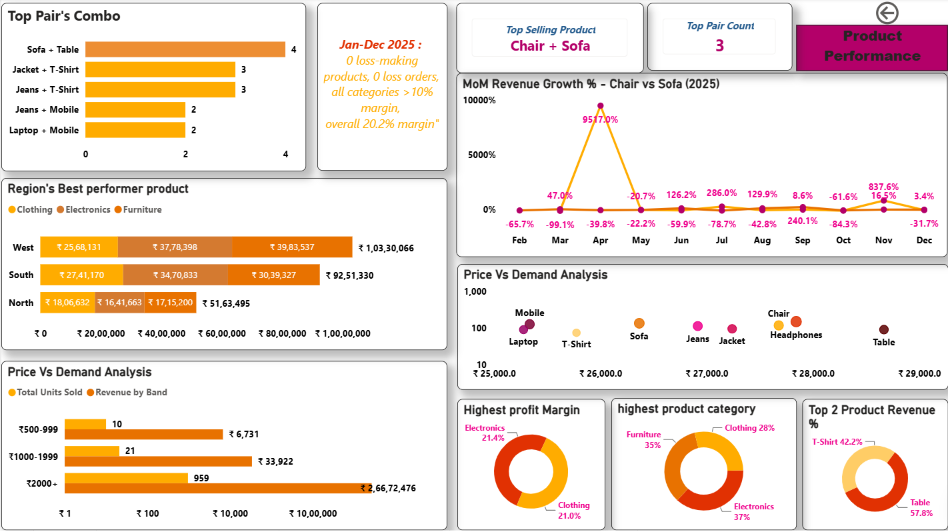

The dashboard page shown, as its layout file describes it:
{"tool":"powerbi","page":{"name":"Product Performance-SQ2","canvas":[1280,720],"ordinal":1},"visuals":[{"type":"actionButton","title":"Product Performance","box":[1075,36.8,204.4,61.8],"z":2000},{"type":"actionButton","box":[1177.3,0,101.4,40.6],"z":3000},{"type":"donutChart","title":"highest product category","fields":{"Y":["All Measures.Total Units Sold"],"Category":["dim_Product.Product_Category"]},"box":[823.9,540.8,250.7,178.9],"z":4000},{"type":"donutChart","title":"Top 2 Product Revenue %","fields":{"Category":["dim_Product.Product_Name"],"Y":["All Measures.Total_Revenue"]},"box":[1083.1,542.3,197.2,177.5],"z":5000},{"type":"barChart","title":"Region''s Best performer product","fields":{"Series":["dim_Product.Product_Category"],"Y":["All Measures.Total_Revenue"],"Category":["fact_Sales.region"]},"box":[0,243.3,602.9,232.5],"z":6000},{"type":"donutChart","title":"Highest profit Margin","fields":{"Category":["dim_Product.Product_Category"],"Y":["All Measures.Profit Margin %"]},"box":[616.9,542.3,200,177.5],"z":7000},{"type":"textbox","box":[426.8,7,176.1,226.8],"z":8000},{"type":"clusteredBarChart","title":"Top Pair''s Combo","fields":{"Category":["Product pairs.Sorted.Pair"],"Y":["All Measures.pair Count"]},"box":[0,6.8,412.3,227.1],"z":9000},{"type":"cardVisual","fields":{"Data":["All Measures.Top Pair Count"]},"box":[873.2,7,195.8,91.5],"z":10000},{"type":"cardVisual","fields":{"Data":["All Measures.Top Pair Name"]},"box":[615.5,7,253.5,94.4],"z":11000},{"type":"scatterChart","title":"Price Vs Demand Analysis","fields":{"X":["Avg(fact_Sales.Unit_Price)"],"Size":["All Measures.Total_Revenue"],"Y":["All Measures.Total Units Sold"],"Series":["dim_Product.Product_Name"]},"box":[616.4,359.6,663.7,170.3],"z":12000},{"type":"clusteredBarChart","title":"Price Vs Demand Analysis","fields":{"Category":["fact_Sales.Price Band"],"Y":["All Measures.Total Units Sold","All Measures.Revenue by Band"]},"box":[0,490.7,602.9,228.4],"z":13000},{"type":"lineChart","title":"MoM Revenue Growth % - Chair vs Sofa (2025)","fields":{"Category":["Dim_Date.Month Short"],"Y":["All Measures.MoM %"],"Series":["dim_Product.Product_Name"]},"box":[615,101.4,663.7,248.7],"z":14000}]}

Visuals, with their boxes in screenshot pixels (x1, y1, x2, y2), scaled from the page's 1280x720 canvas onto the 948x531 screenshot:
"Product Performance" actionButton: [796,27,947,73]
actionButton: [872,0,947,30]
"highest product category" donutChart: [610,399,796,530]
"Top 2 Product Revenue %" donutChart: [802,400,947,530]
"Region''s Best performer product" barChart: [0,179,447,351]
"Highest profit Margin" donutChart: [457,400,605,530]
textbox: [316,5,447,172]
"Top Pair''s Combo" clusteredBarChart: [0,5,305,173]
cardVisual - All Measures.Top Pair Count: [647,5,792,73]
cardVisual - All Measures.Top Pair Name: [456,5,644,75]
"Price Vs Demand Analysis" scatterChart: [457,265,947,391]
"Price Vs Demand Analysis" clusteredBarChart: [0,362,447,530]
"MoM Revenue Growth % - Chair vs Sofa (2025)" lineChart: [455,75,947,258]
